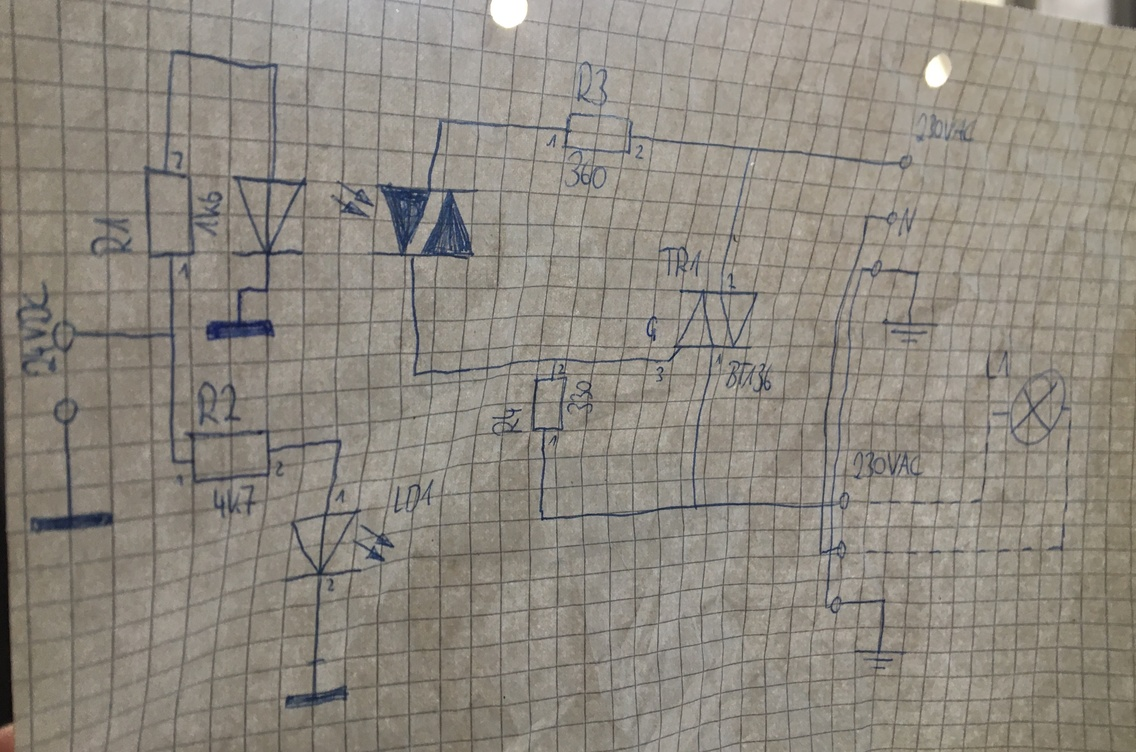crossover: (827, 546, 835, 554), (828, 501, 836, 509), (819, 501, 826, 509)
diode.light_emitting: (277, 507, 396, 586)
gnd: (281, 681, 352, 714), (25, 511, 118, 535), (203, 316, 282, 344), (878, 314, 942, 348), (850, 645, 911, 674)
junction: (435, 112, 450, 130), (267, 59, 284, 74), (165, 327, 179, 341), (167, 45, 180, 59), (746, 143, 760, 156), (334, 434, 346, 448), (409, 368, 422, 380), (861, 212, 873, 225), (1067, 404, 1076, 421), (985, 409, 995, 424), (690, 500, 702, 512), (977, 491, 986, 506), (168, 455, 179, 467), (879, 594, 889, 607), (912, 268, 923, 279), (1057, 542, 1066, 555), (537, 513, 547, 524), (262, 284, 272, 295), (550, 355, 561, 364), (235, 285, 244, 296), (859, 265, 868, 274), (817, 549, 825, 557), (823, 604, 829, 611)
lamp: (1007, 367, 1067, 447)
optocoupler: (228, 172, 487, 267)
resistor: (142, 163, 197, 260), (184, 428, 272, 484), (560, 111, 634, 155), (529, 374, 569, 433)
terminal: (50, 318, 81, 354), (51, 396, 80, 430), (897, 153, 915, 171), (884, 210, 899, 227)
text: (13, 276, 61, 379), (86, 212, 138, 261), (851, 449, 925, 482), (195, 378, 244, 427), (910, 111, 978, 146), (561, 150, 608, 191), (575, 59, 612, 108), (657, 244, 705, 281), (724, 359, 774, 394), (391, 477, 436, 515), (211, 484, 259, 519), (194, 187, 224, 238), (490, 406, 525, 439), (567, 379, 595, 417), (983, 349, 1013, 382), (895, 204, 920, 238), (169, 148, 192, 171), (644, 314, 660, 343), (176, 260, 194, 283), (274, 458, 288, 480), (334, 487, 350, 506), (653, 364, 667, 383), (546, 132, 559, 151), (633, 143, 646, 162), (325, 577, 339, 594), (725, 271, 738, 289), (547, 433, 560, 449), (174, 472, 186, 489), (556, 362, 568, 375), (714, 352, 724, 365)
triac: (668, 288, 760, 364)
